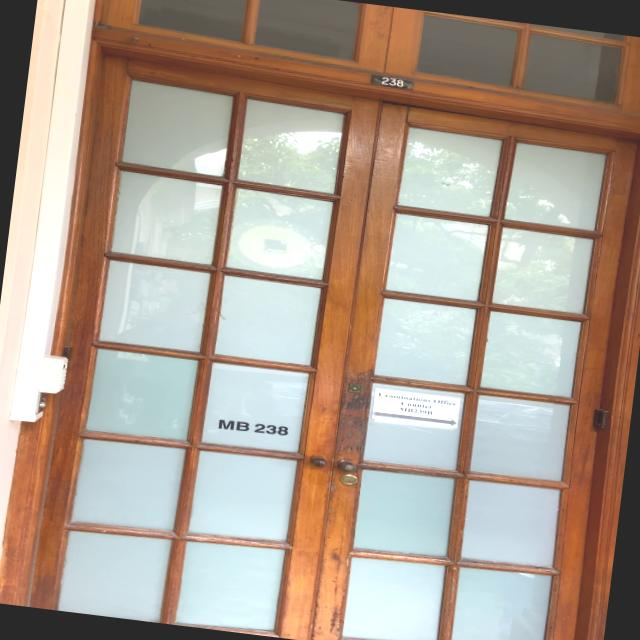room238: (368, 72, 416, 91)
